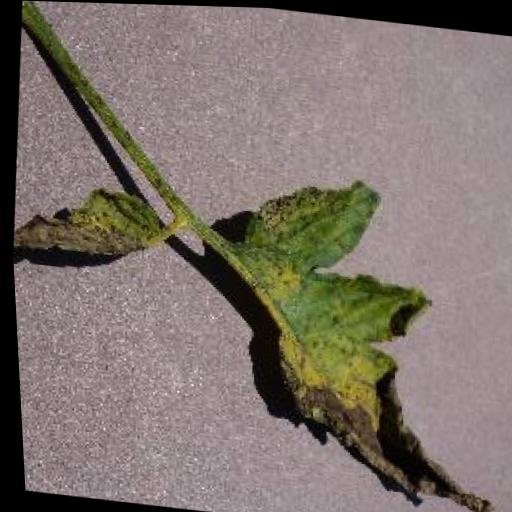Septoria: (208, 169, 512, 512), (7, 176, 171, 270)
